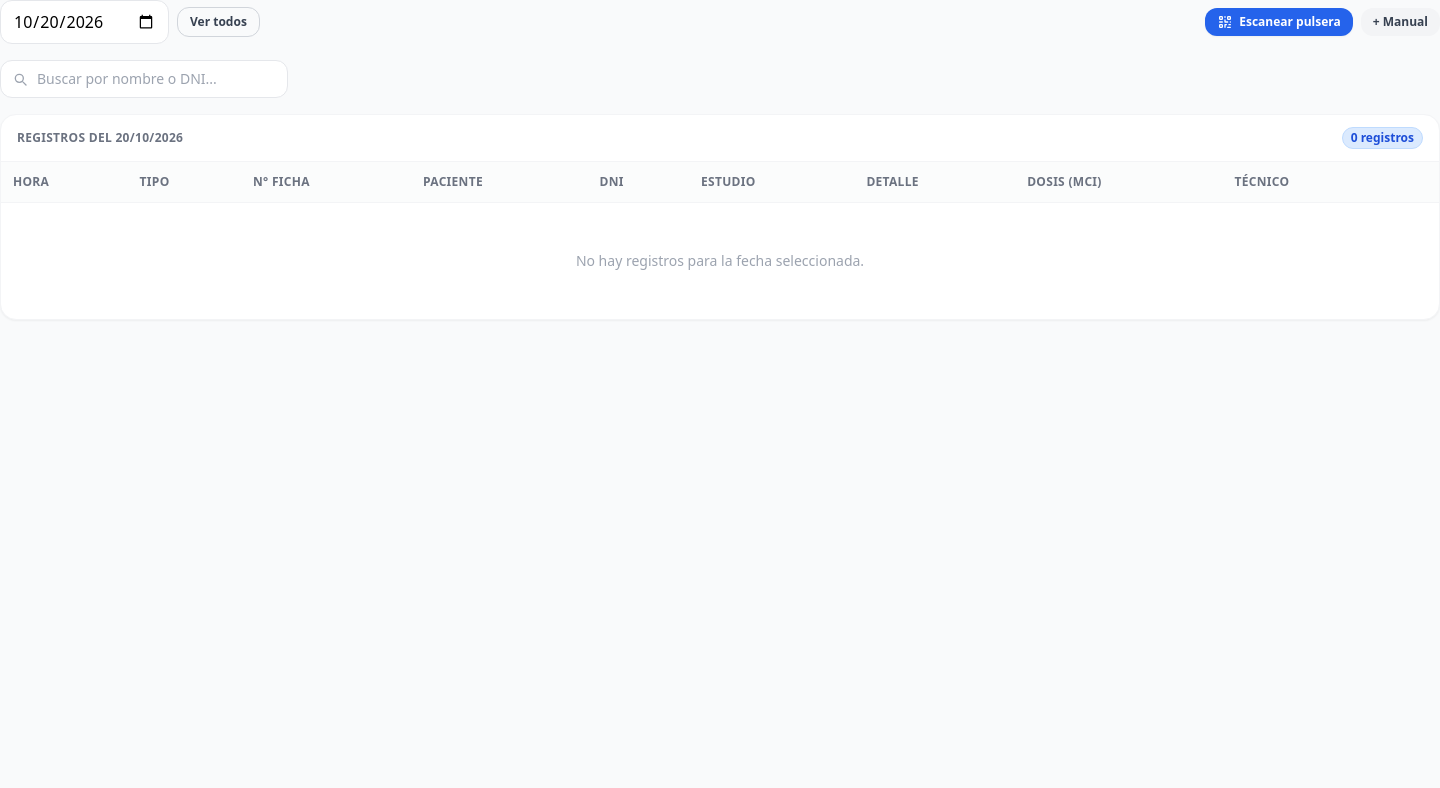
Scenario: TabPacientes -- 'No requiere marcación de radiofármaco' (CasilleroExcepcion): sólo el cuadradito activa la excepción › tocar el cuadradito SÍ activa la excepción, y muestra el aviso
Click the button "+ Manual" at (1400, 22), box [1361,8,1439,36]
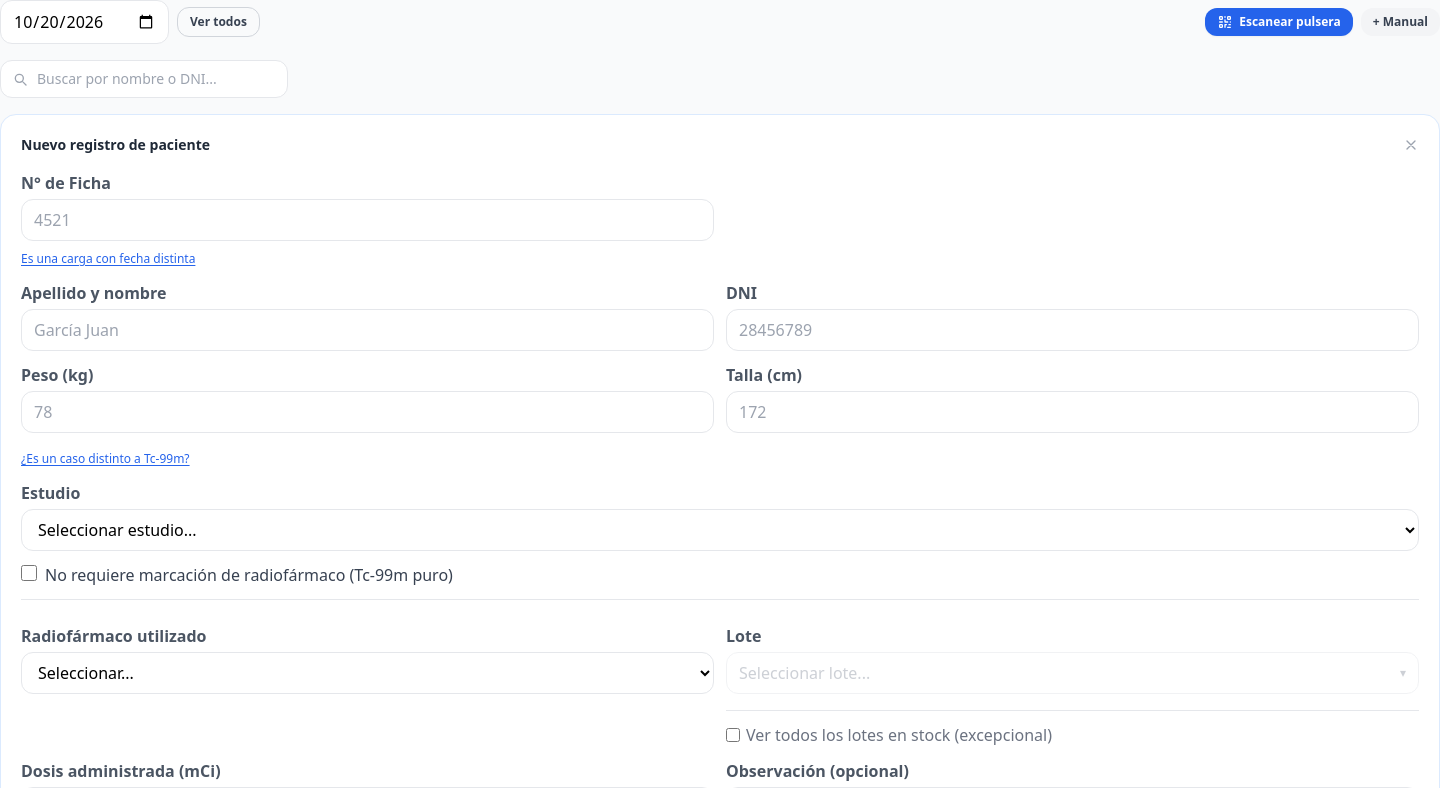
Click the checkbox named "No requiere marcación de radiofármaco (Tc-99m puro)" at (29, 573), box [21,565,37,581]
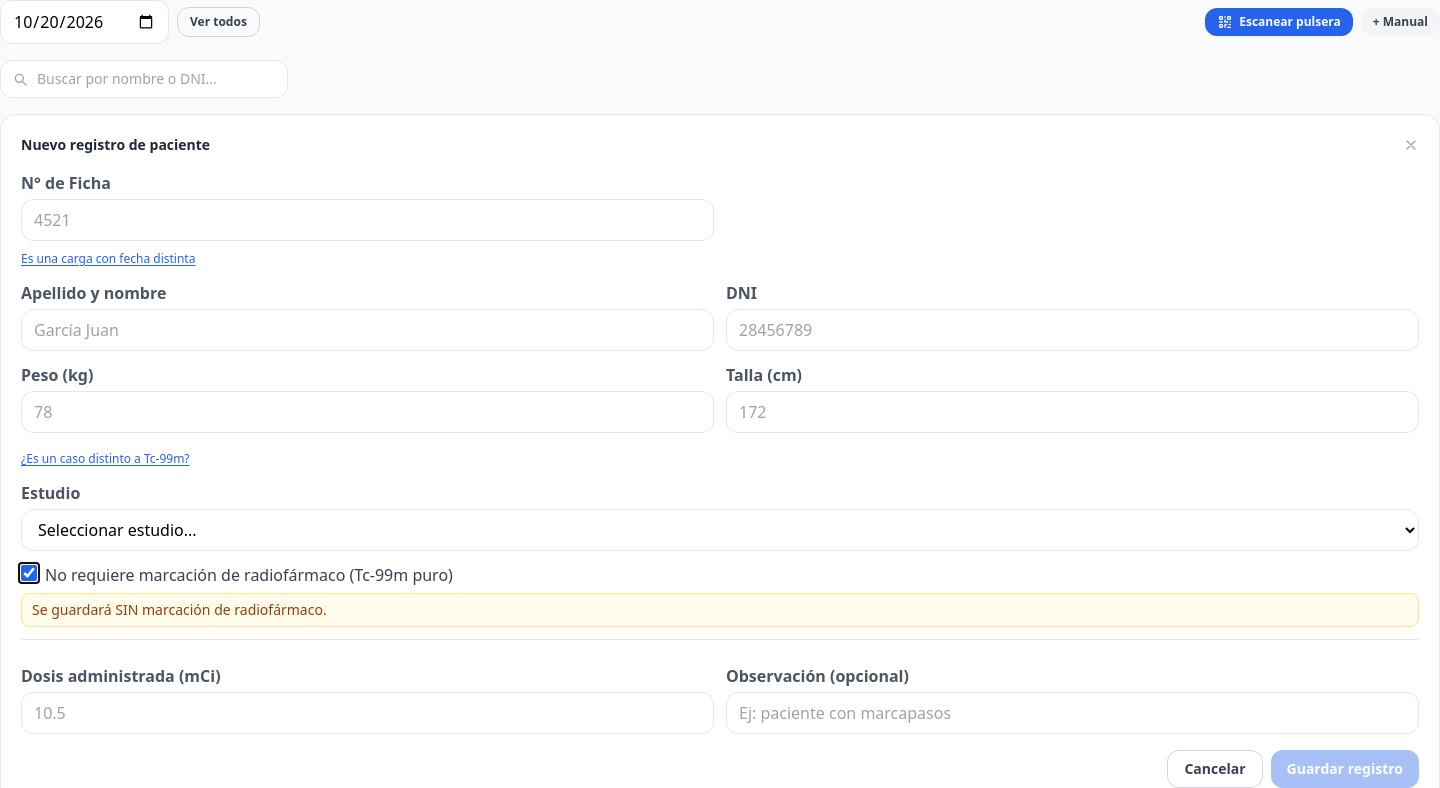
Result: the text "Radiofármaco utilizado" is gone
Result: the text "Se guardará SIN marcación de radiofármaco." is shown at [21,593,1419,627]
